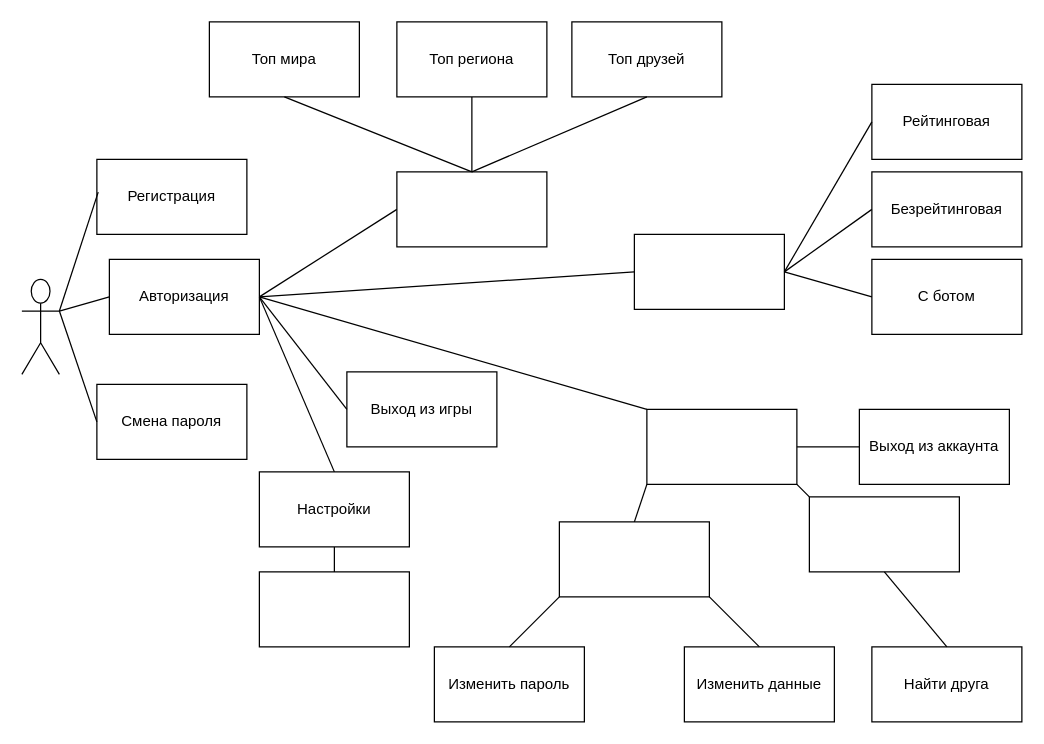
Some shapes in this 1044 by 744 pixel diagram are drawn without their labels. The shapes that lost their labels are listed below. From the top down, each one's centre as x and y in pixels, then its label:
At point (471, 209): "Рейтинговая таблица".
At point (708, 271): "Начало игры".
At point (40, 326): "User".
At point (721, 446): "Аккаунт".
At point (883, 534): "Список друзей".
At point (633, 559): "Настройки аккаунта".
At point (333, 609): "Музыка и звук".
